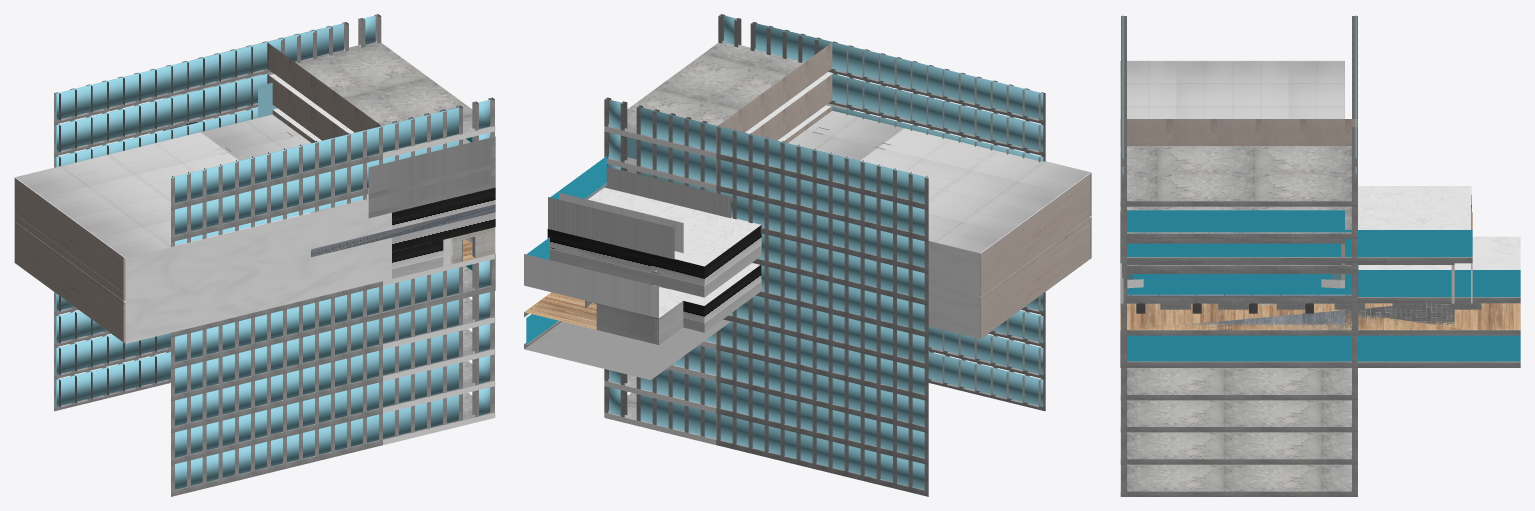
Rendered from platform.fbx.
3 renders of one model, left to right at view 1: azimuth 30°, elevation 25°; view 2: azimuth 150°, elevation 25°; view 3: azimuth 270°, elevation 25°, orthographic.
Visible parts, largest first — view 1: PlatformStart, Platform.003, PlatformEnd, Platform.005, Platform.002; view 2: PlatformEnd, Platform.003, PlatformStart, Platform.005, Platform.006, Platform.004, Platform.008; view 3: PlatformStart, Platform.006, Platform.003, PlatformEnd, Platform.005, Platform, Platform.008, Platform.004, Platform.001, Platform.002, Platform.007, Platform.009.
Boxes of the visible parts, <box> form: PlatformStart: <box>171,41,494,496</box>; Platform.003: <box>14,82,495,343</box>; PlatformEnd: <box>54,14,495,445</box>; Platform.005: <box>170,28,495,285</box>; Platform.002: <box>368,227,495,315</box>; PlatformEnd: <box>604,41,928,496</box>; Platform.003: <box>627,103,1091,338</box>; PlatformStart: <box>604,14,1045,444</box>; Platform.005: <box>547,154,761,362</box>; Platform.006: <box>524,237,727,380</box>; Platform.004: <box>557,108,847,349</box>; Platform.008: <box>604,166,730,321</box>; PlatformStart: <box>1121,15,1357,496</box>; Platform.006: <box>1120,236,1520,367</box>; Platform.003: <box>1120,60,1344,367</box>; PlatformEnd: <box>1120,15,1357,496</box>; Platform.005: <box>1120,186,1472,367</box>; Platform: <box>1121,265,1358,367</box>; Platform.008: <box>1121,240,1358,367</box>; Platform.004: <box>1120,263,1454,367</box>; Platform.001: <box>1121,270,1358,367</box>; Platform.002: <box>1121,274,1358,367</box>; Platform.007: <box>1127,274,1328,367</box>; Platform.009: <box>1126,274,1232,365</box>.
Size of the model in its own units: 42972 by 35288 by 39709.
Materials: 34 (32 with a texture image).
